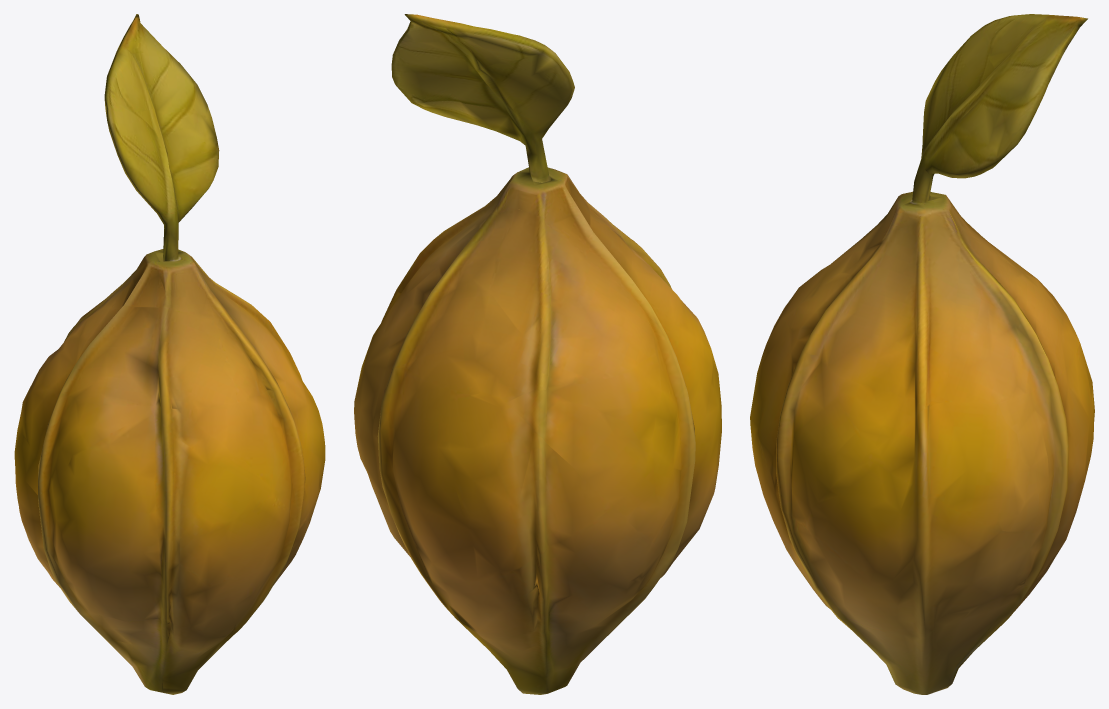
Rendered from seed.glb.
3 views of the same model, side by side, from view 1: azimuth 30°, elevation 25°; view 2: azimuth 150°, elevation 25°; view 3: azimuth 270°, elevation 25° (orthographic). The views are drawn at different scales.
Parts seen in each view (by area): view 1: tripo_node_40e33860-6a93-4692-ab4b-969eec531c2a; view 2: tripo_node_40e33860-6a93-4692-ab4b-969eec531c2a; view 3: tripo_node_40e33860-6a93-4692-ab4b-969eec531c2a.
Boxes of the visible parts, x1,y1,x2,y2 form: tripo_node_40e33860-6a93-4692-ab4b-969eec531c2a: [14, 14, 325, 694]; tripo_node_40e33860-6a93-4692-ab4b-969eec531c2a: [354, 14, 721, 694]; tripo_node_40e33860-6a93-4692-ab4b-969eec531c2a: [750, 14, 1094, 694].
Size of the model in its own units: 0.1839 by 0.4 by 0.1806.
Materials: 1 (1 with a texture image).
